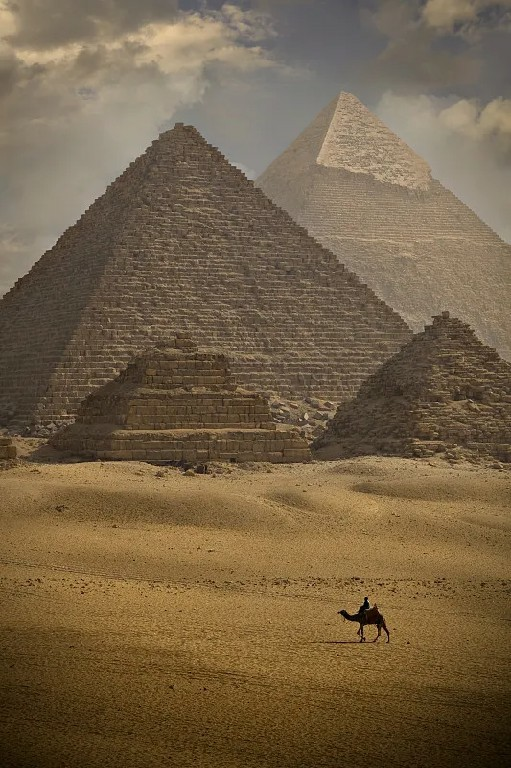Pyramid: (1, 124, 414, 454), (252, 91, 511, 359), (49, 338, 311, 466), (313, 314, 511, 462)
